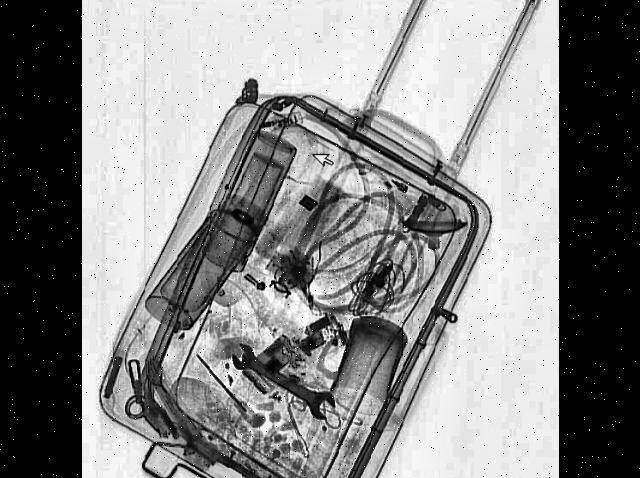Wrench: (228, 332, 338, 428)
